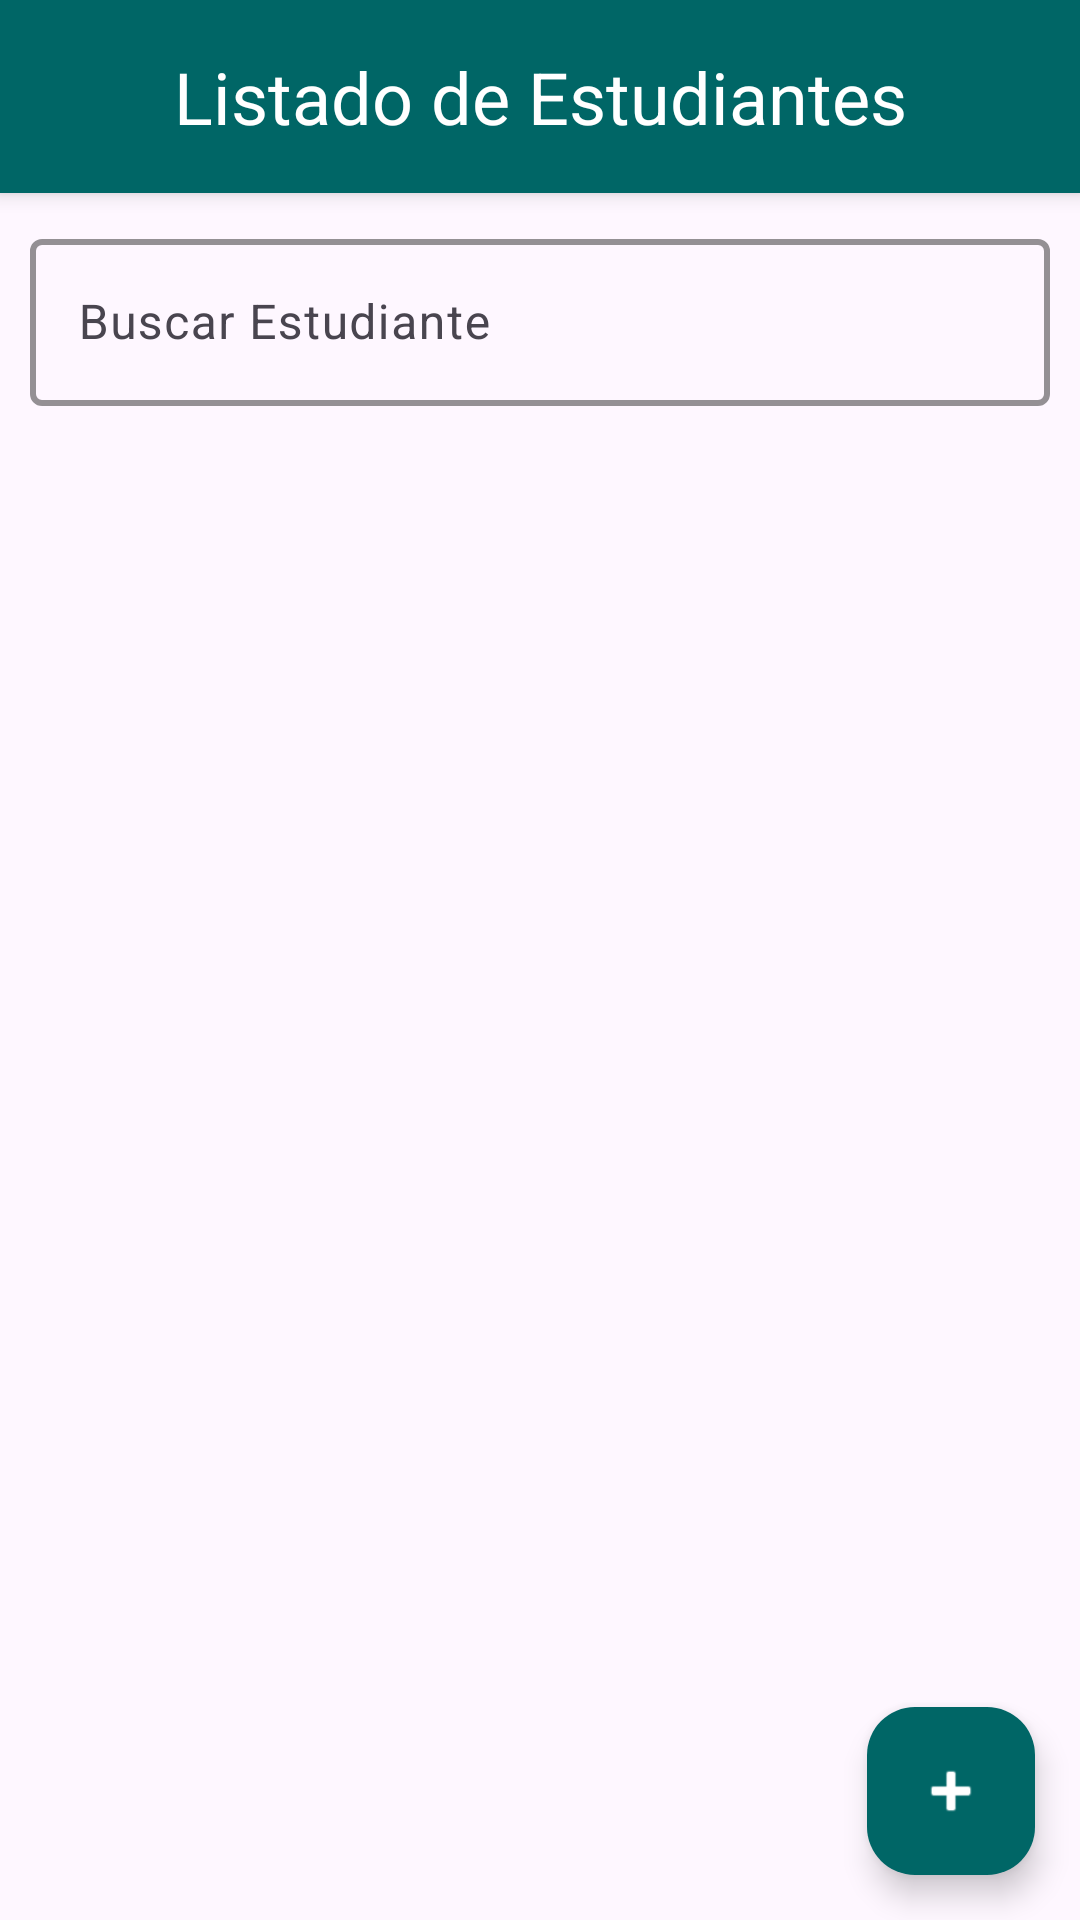

Locate icon controls on the screen. Image size 1080px x 1920px, boxes as (x1, y1, x2, y2).
Añadir: (867, 1707, 1035, 1875)
